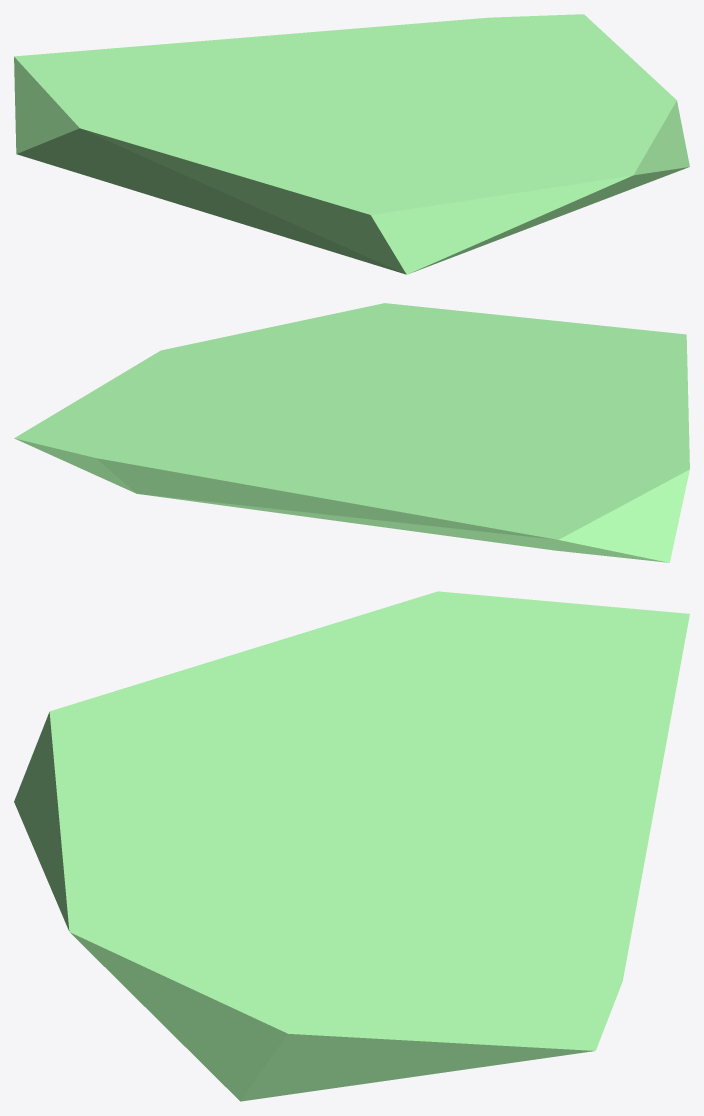
Rendered from UMIRobot_UMIRobot_link_3_convex_coll_32.dae.
3 views of the same model, one above another, from view 1: azimuth 30°, elevation 25°; view 2: azimuth 150°, elevation 25°; view 3: azimuth 270°, elevation 25° (orthographic). The views are drawn at different scales.
Visible parts, largest first — view 1: node; view 2: node; view 3: node.
Part boxes in pixels (x1,y1,x2,y2): node: (14,14,689,274); node: (14,303,689,562); node: (14,591,689,1101).
Size of the model in its own units: 0.0221 by 0.00418 by 0.0164.
